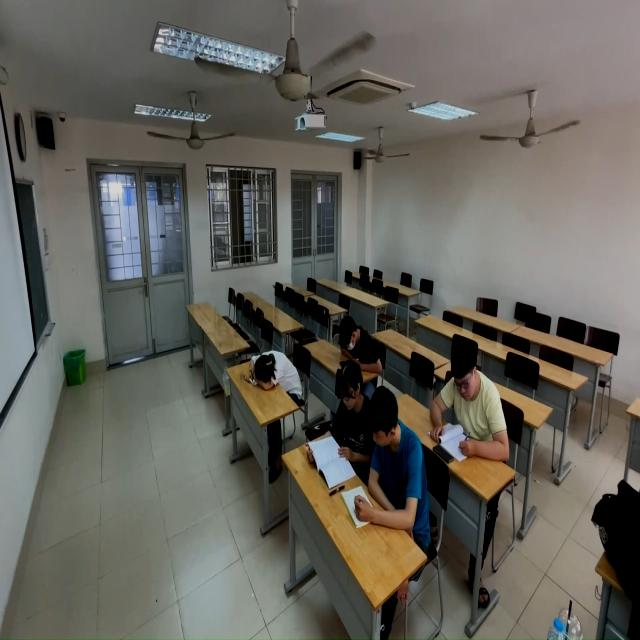read: (356, 381, 433, 558), (434, 338, 507, 476), (310, 357, 373, 484), (340, 304, 379, 380)
sleep: (233, 329, 302, 398)
